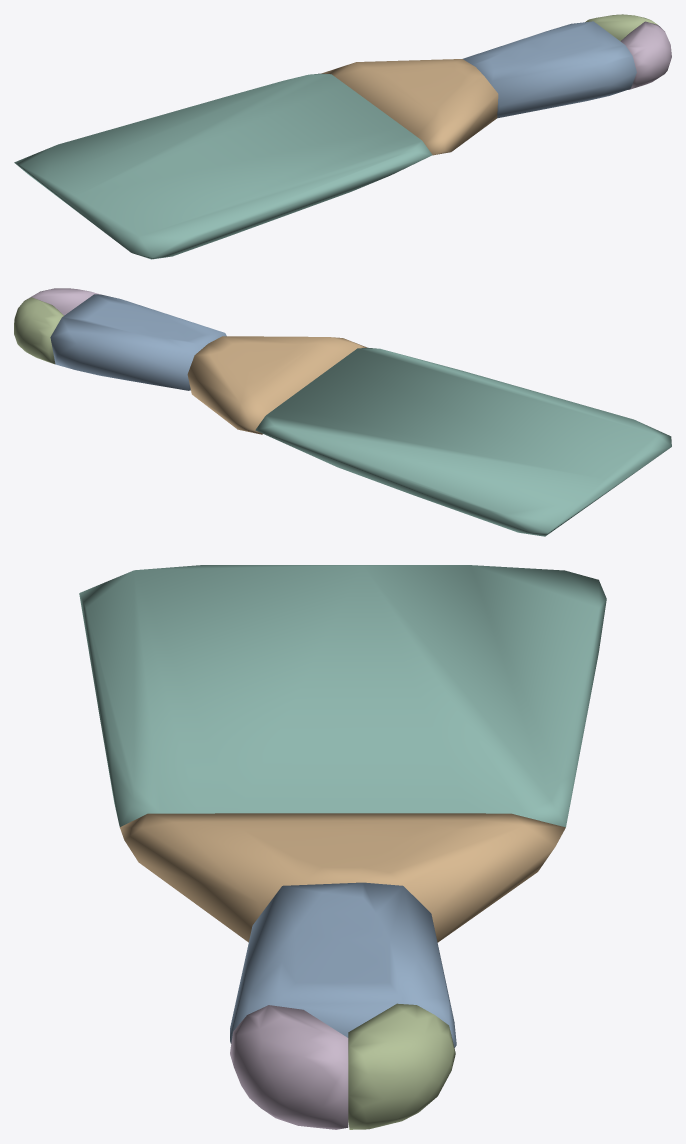
3 renders of one model, top to bottom at view 1: azimuth 30°, elevation 25°; view 2: azimuth 150°, elevation 25°; view 3: azimuth 270°, elevation 25°, orthographic. The views are drawn at different scales.
Bounding box in the file's own units: 1.9 × 0.1822 × 0.7365.
